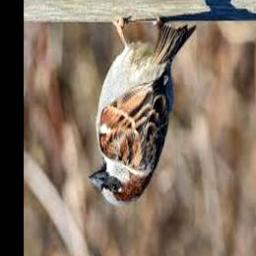Sparrow: (88, 18, 196, 207)
